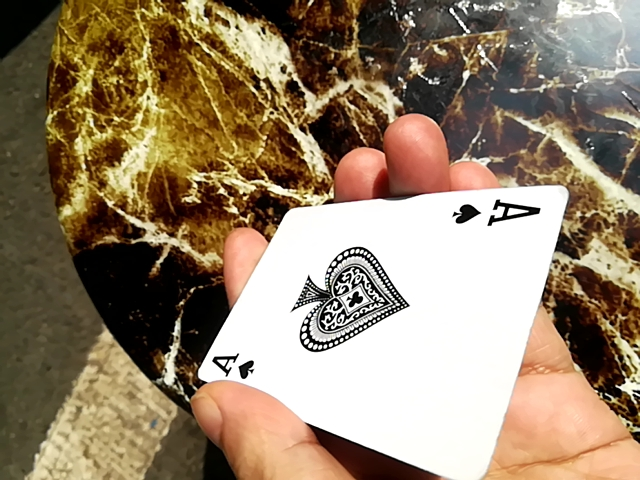ht a: (191, 187, 570, 477)
